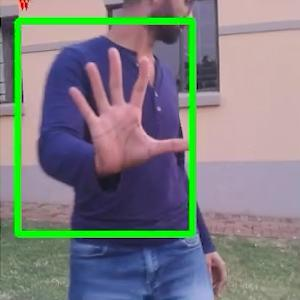follow_hand: (66, 43, 189, 179)
